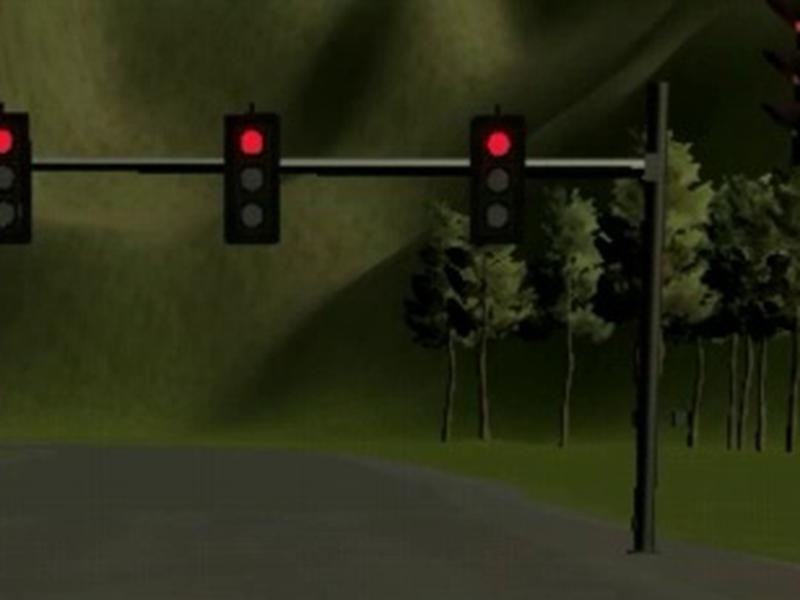Red: (224, 115, 280, 244), (471, 115, 522, 241), (1, 112, 31, 244)
